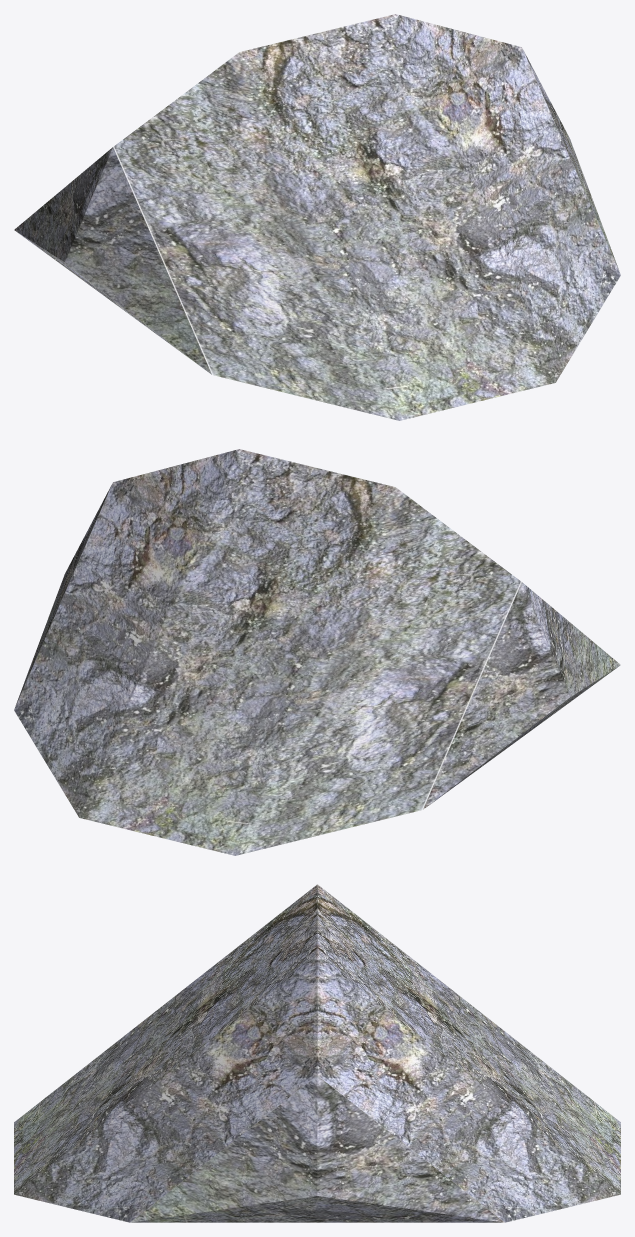
The model's file is Rock.fbx.
3 renders of one model, top to bottom at view 1: azimuth 30°, elevation 25°; view 2: azimuth 150°, elevation 25°; view 3: azimuth 270°, elevation 25°, orthographic. The views are drawn at different scales.
Visible parts, largest first — view 1: Sphere.006; view 2: Sphere.006; view 3: Sphere.006.
Boxes of the visible parts, x1=… form: Sphere.006: x1=14, y1=14, x2=620, y2=420; Sphere.006: x1=14, y1=449, x2=620, y2=855; Sphere.006: x1=14, y1=884, x2=620, y2=1222.
Size of the model in its own units: 6 by 2.85 by 6.59.
